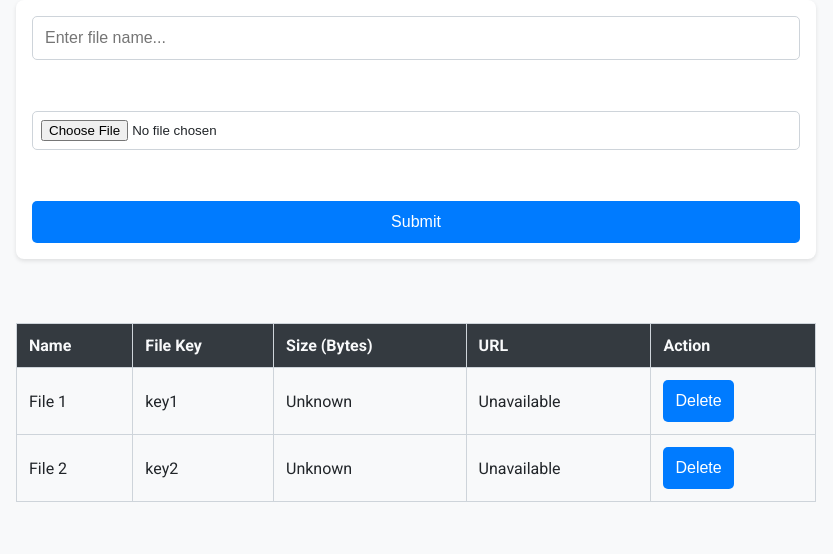
Test: FileUpload › should handle file delete error
The width and height of the screenshot is (833, 554).
Expected: the text "File 1" is shown, [16, 368, 133, 434]
What coordinates should you click on to do the following:
click the button "Delete" in the row of "File 1"
I would click on:
 (699, 401)
Its box is [663, 380, 734, 422].
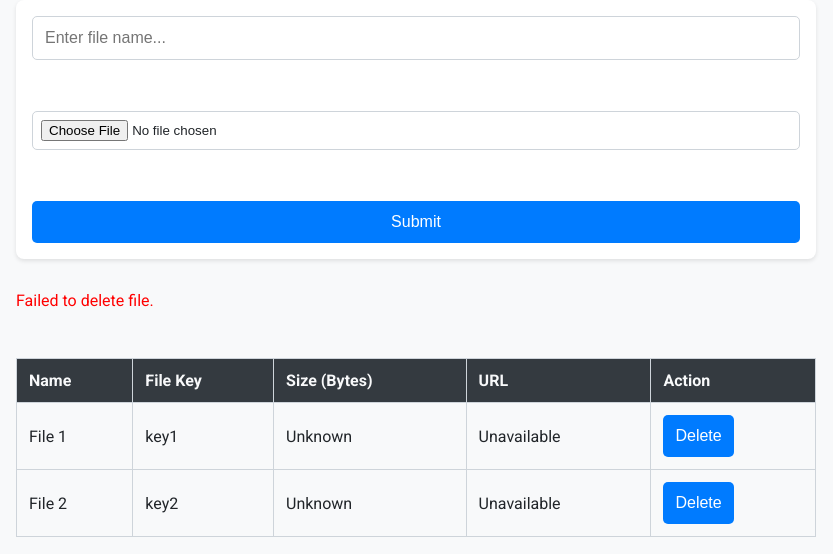
Expected: the text "Failed to delete file." is shown, [16, 291, 154, 310]
